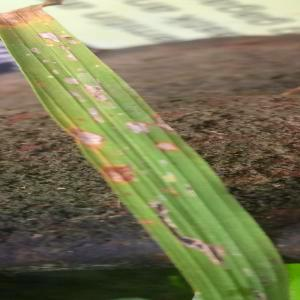1 RiceBlast: (140, 192, 238, 267), (113, 105, 188, 141), (65, 116, 112, 158), (97, 153, 142, 184), (142, 134, 180, 159), (32, 21, 64, 49), (81, 95, 108, 125), (64, 87, 92, 108), (59, 70, 83, 90), (59, 44, 82, 61)
